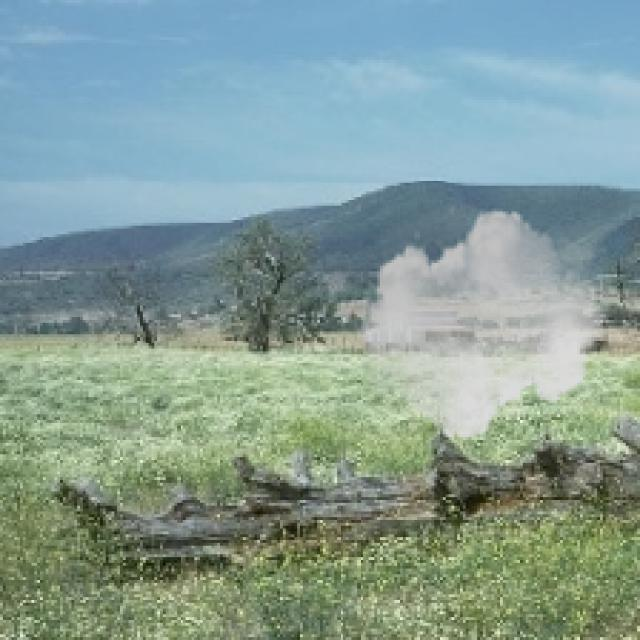smoke: (354, 200, 609, 449)
